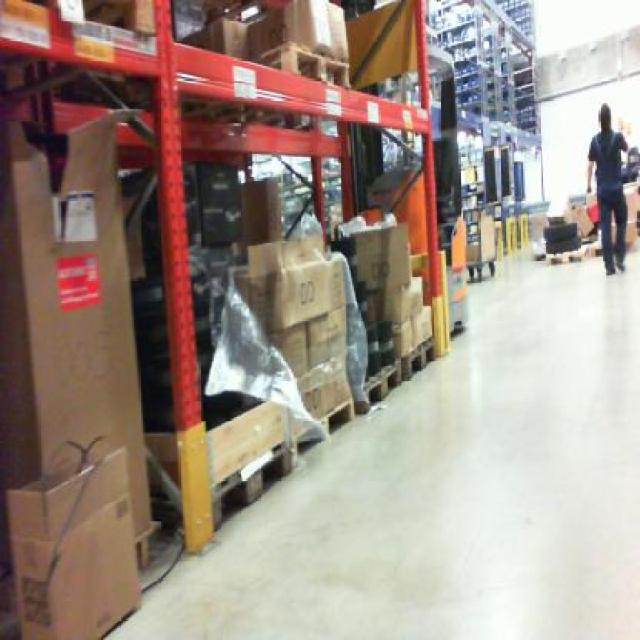ground: (96, 240, 638, 638)
pallet: (209, 432, 292, 532), (252, 38, 353, 90), (293, 395, 358, 464), (362, 356, 406, 417), (404, 334, 437, 379), (544, 251, 585, 268)
